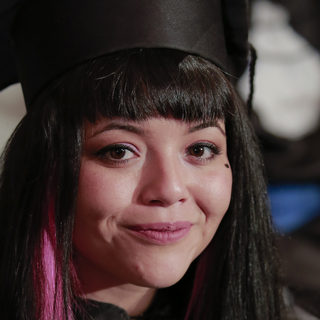eye: (82, 138, 147, 167), (175, 134, 225, 167)
